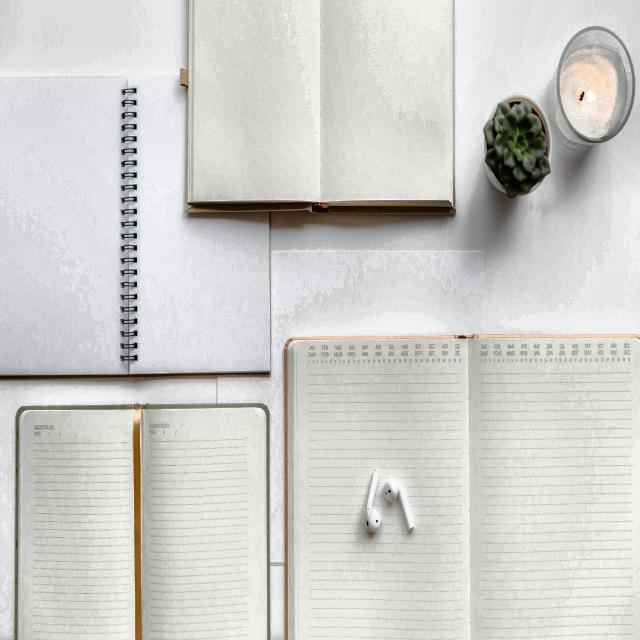Ear_Piece: (359, 462, 422, 554)
